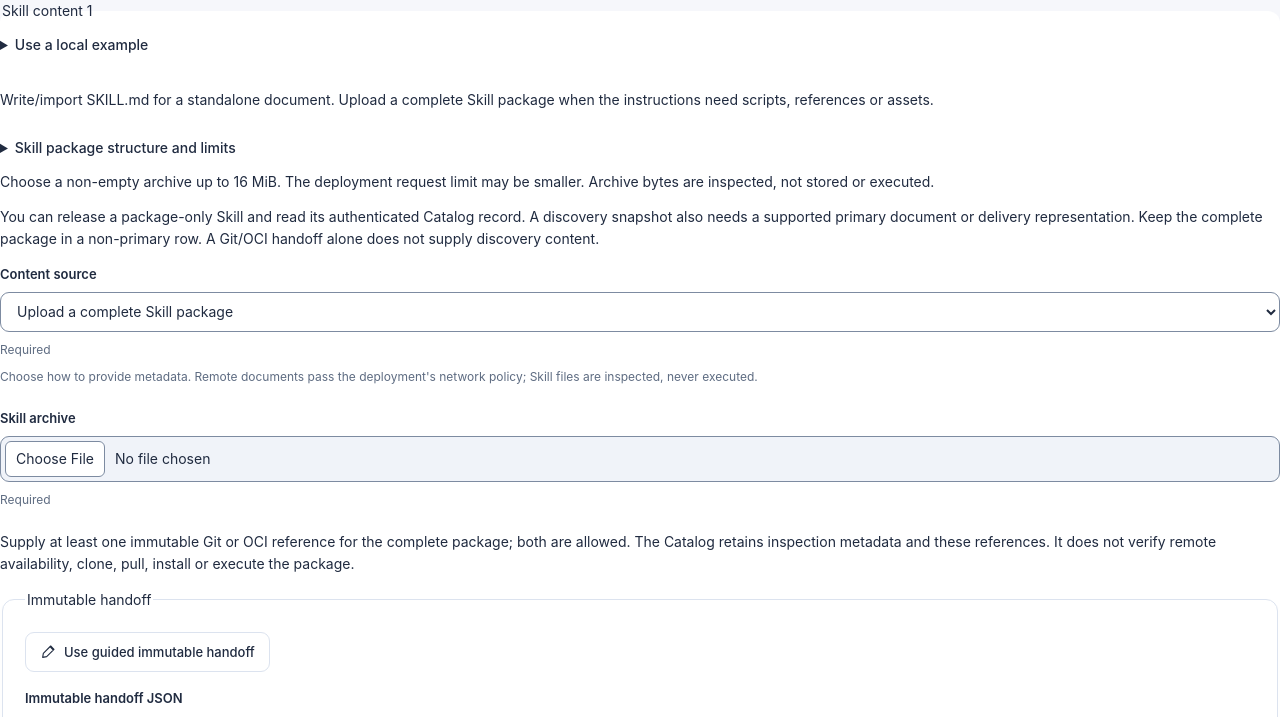
preserves Skill archive input when a switch to url is declined, and reconciles media on acceptance
Step 1. Select "Anonymous HTTPS document" in the dropdown labelled "Content source" → (640, 312), box [0,292,1279,332]
Step 2. Select "Anonymous HTTPS document" in the dropdown labelled "Content source" → (640, 312), box [0,292,1279,332]
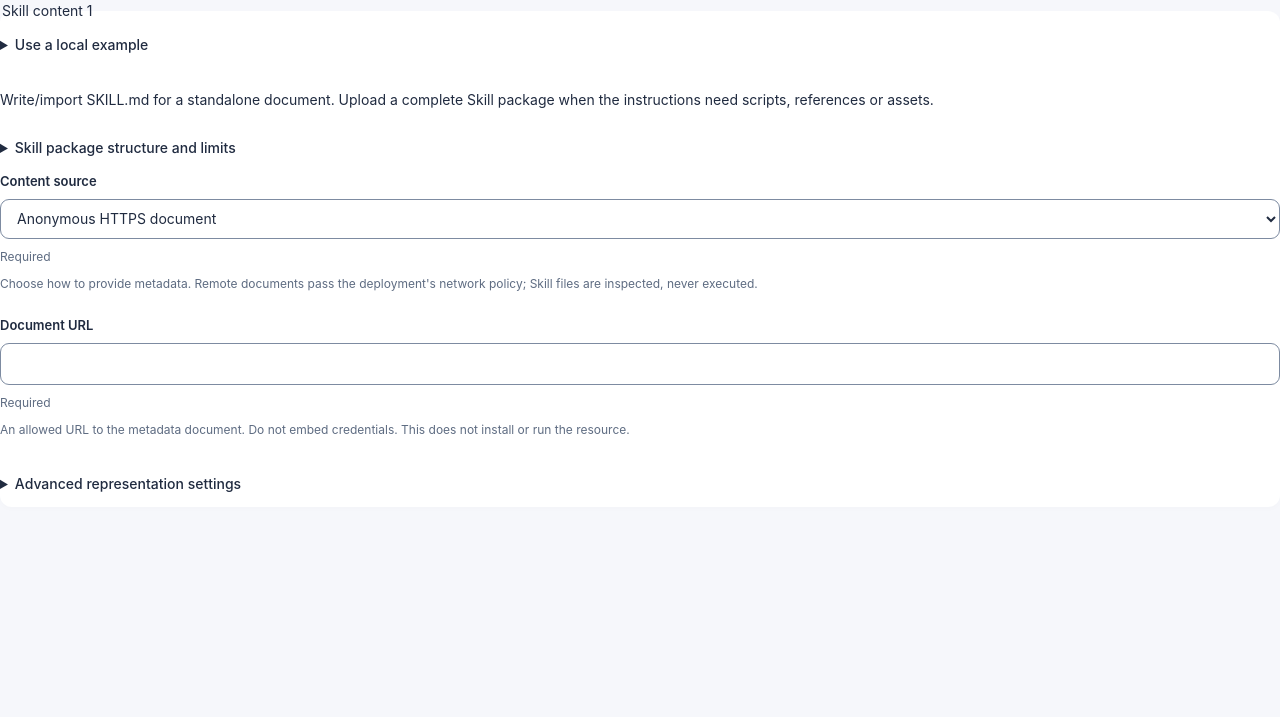
Check: the element named "Media type" holds "application/agent-skills+md", box [15,476,241,492]
Check: the text labelled "Immutable handoff JSON" is gone
